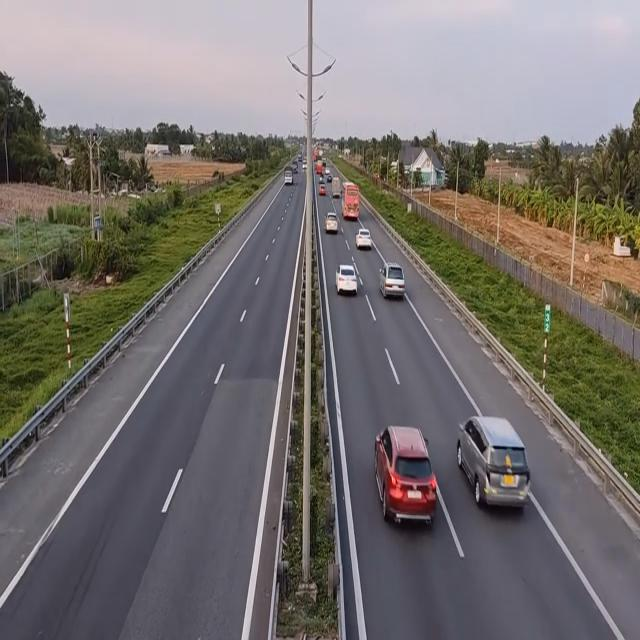bus: (341, 181, 360, 220)
car: (457, 416, 533, 515), (376, 422, 441, 524), (379, 264, 406, 302), (336, 263, 361, 297), (355, 228, 372, 252), (324, 211, 339, 234)
